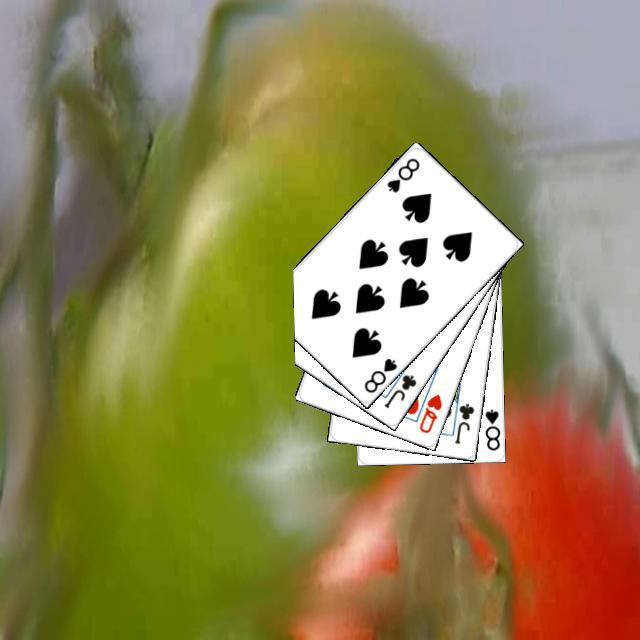8s: (359, 353, 399, 395), (382, 153, 421, 194), (480, 404, 501, 452)
Jc: (379, 369, 418, 410), (450, 398, 476, 445)
Qh: (414, 389, 444, 435)
